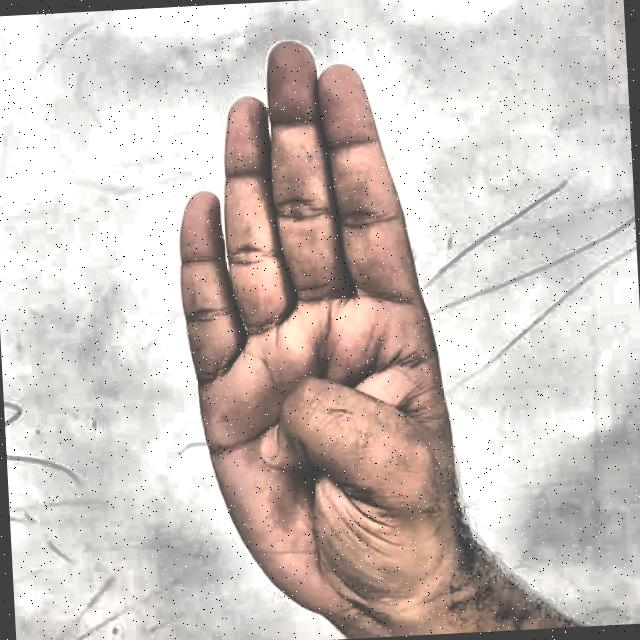Ba: (124, 18, 533, 640)
